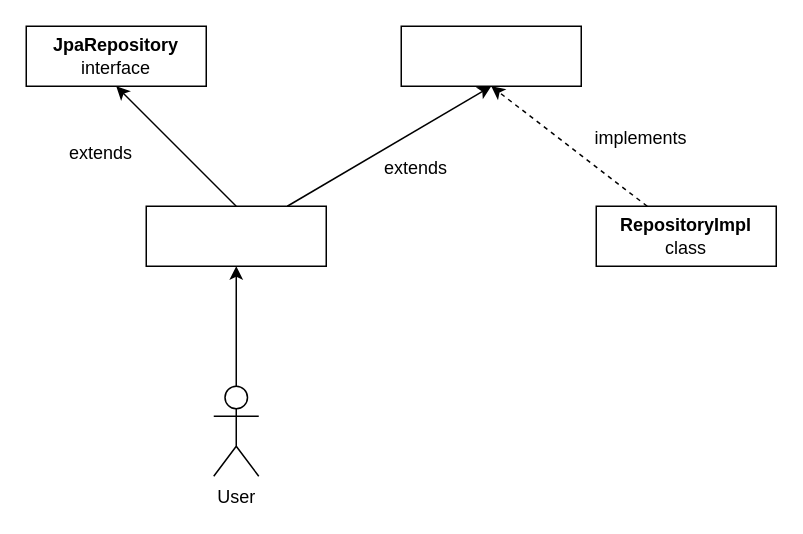
Image size: 803x534. Some labels were removed from this diagram. Each missing label, with the centre of its shape:
"Repository interface" goes at (x=235, y=235).
"RepositoryCutom interface" goes at (x=490, y=55).
